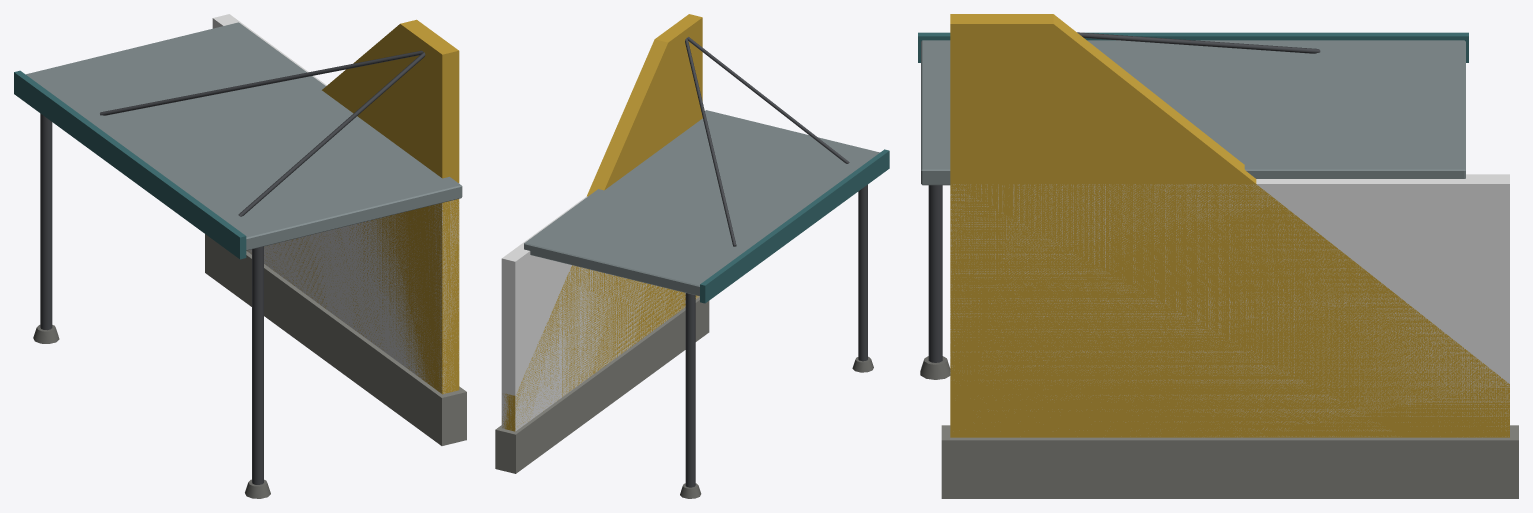
The model's file is stop-8.glb.
3 renders of one model, left to right at view 1: azimuth 30°, elevation 25°; view 2: azimuth 150°, elevation 25°; view 3: azimuth 270°, elevation 25°, orthographic. The views are drawn at different scales.
Visible parts, largest first — view 1: 02_#7f8a8c, 00_paint6, solid, 01_#85857f, 04_#4c4e52, 03_paint0, 05_#6e6e6a; view 2: 02_#7f8a8c, 00_paint6, solid, 01_#85857f, 04_#4c4e52, 03_paint0, 05_#6e6e6a; view 3: 00_paint6, 02_#7f8a8c, solid, 01_#85857f, 04_#4c4e52, 03_paint0.
Boxes of the visible parts, <box> form: 02_#7f8a8c: <box>26,22,462,250</box>; 00_paint6: <box>249,19,459,394</box>; solid: <box>212,14,459,393</box>; 01_#85857f: <box>205,234,466,445</box>; 04_#4c4e52: <box>40,50,425,484</box>; 03_paint0: <box>14,70,246,259</box>; 05_#6e6e6a: <box>33,325,270,498</box>; 02_#7f8a8c: <box>524,110,879,296</box>; 00_paint6: <box>502,14,702,431</box>; solid: <box>501,196,699,431</box>; 01_#85857f: <box>495,297,709,473</box>; 04_#4c4e52: <box>685,37,867,487</box>; 03_paint0: <box>700,149,889,303</box>; 05_#6e6e6a: <box>680,356,873,498</box>; 00_paint6: <box>950,14,1509,437</box>; 02_#7f8a8c: <box>921,40,1465,185</box>; solid: <box>950,174,1509,436</box>; 01_#85857f: <box>941,425,1518,498</box>; 04_#4c4e52: <box>928,32,1320,362</box>; 03_paint0: <box>918,32,1468,62</box>.
Size of the model in its own units: 2.26 by 3.54 by 4.08.
